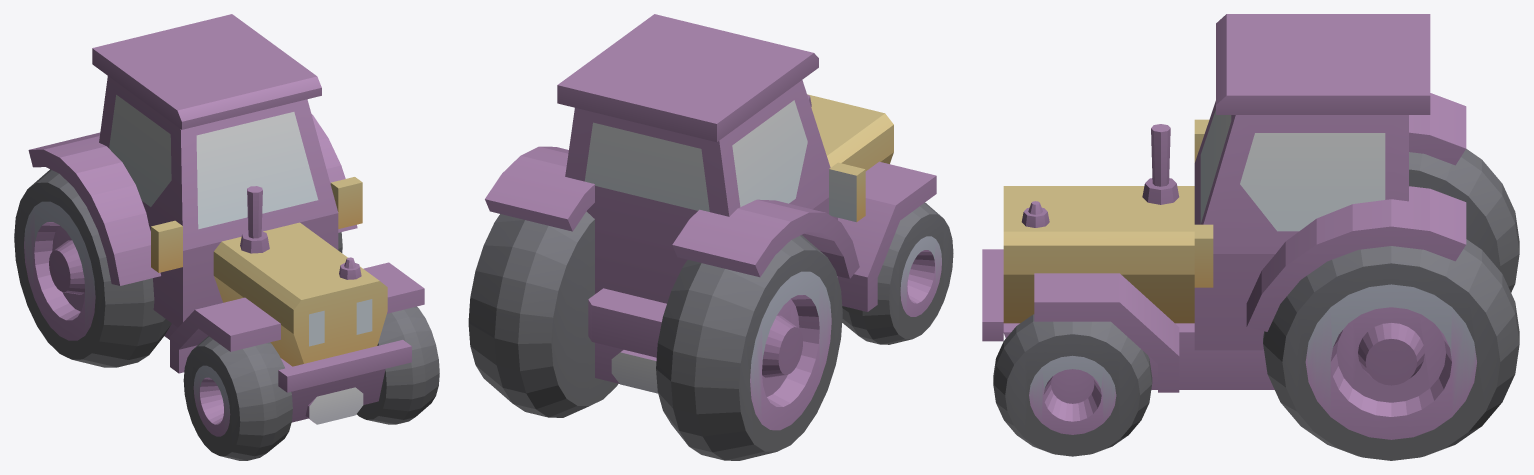
The model's file is tractor_2.glb.
3 views of the same model, side by side, from view 1: azimuth 30°, elevation 25°; view 2: azimuth 150°, elevation 25°; view 3: azimuth 270°, elevation 25° (orthographic). The views are drawn at different scales.
Visible parts, largest first — view 1: geometry_0, geometry_2, geometry_4, geometry_3; view 2: geometry_0, geometry_2, geometry_1, geometry_4; view 3: geometry_0, geometry_1, geometry_3, geometry_2.
Part boxes in pixels (x1,y1,x2,y2): geometry_0: [28, 14, 424, 424]; geometry_2: [14, 169, 171, 367]; geometry_4: [183, 336, 292, 460]; geometry_3: [356, 306, 439, 424]; geometry_0: [485, 14, 936, 393]; geometry_2: [656, 235, 842, 460]; geometry_1: [468, 211, 618, 417]; geometry_4: [842, 202, 953, 344]; geometry_0: [982, 14, 1466, 392]; geometry_1: [1263, 239, 1519, 460]; geometry_3: [993, 314, 1152, 456]; geometry_2: [1409, 149, 1519, 292].
Bounding box in the file's own units: 0.8377 × 1 × 1.37.
